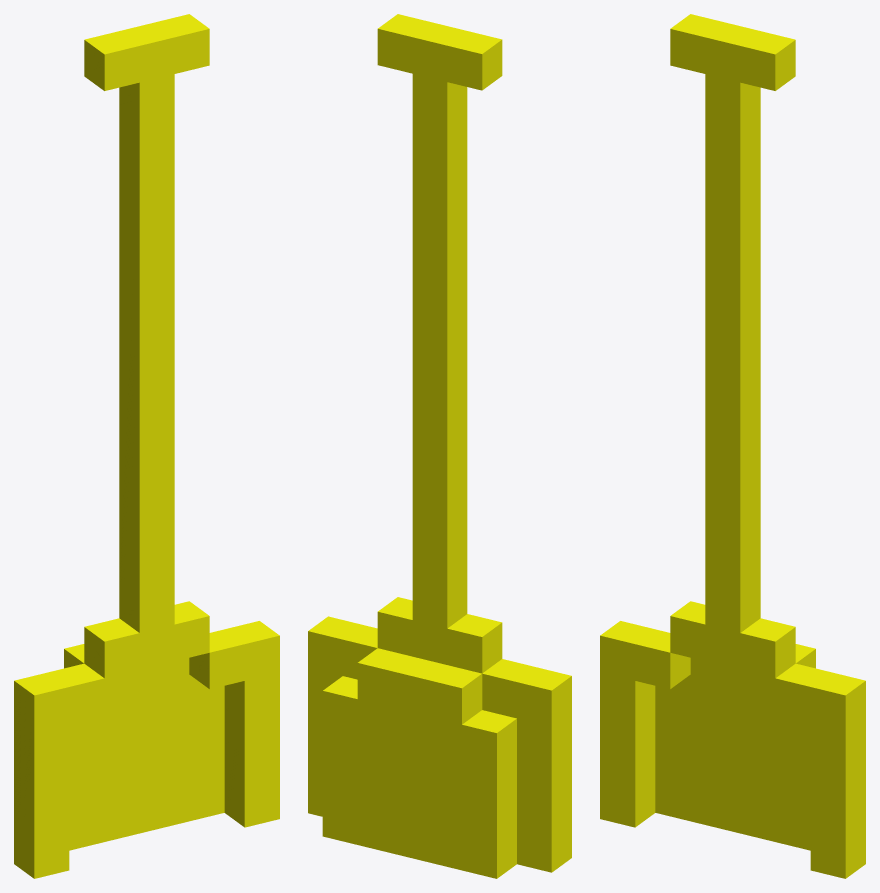
File: voxel-farm-spade.glb
The picture shows the model from 3 angles, left to right: view 1: azimuth 30°, elevation 25°; view 2: azimuth 150°, elevation 25°; view 3: azimuth 330°, elevation 25°; orthographic projection.
Visible parts, largest first — view 1: VS_Farm_Spade; view 2: VS_Farm_Spade; view 3: VS_Farm_Spade.
Part boxes in pixels (<box>): VS_Farm_Spade: <box>14,14,279,878</box>; VS_Farm_Spade: <box>308,14,571,878</box>; VS_Farm_Spade: <box>600,14,865,878</box>.
Size of the model in its own units: 0.6999 by 2.2 by 0.2001.
